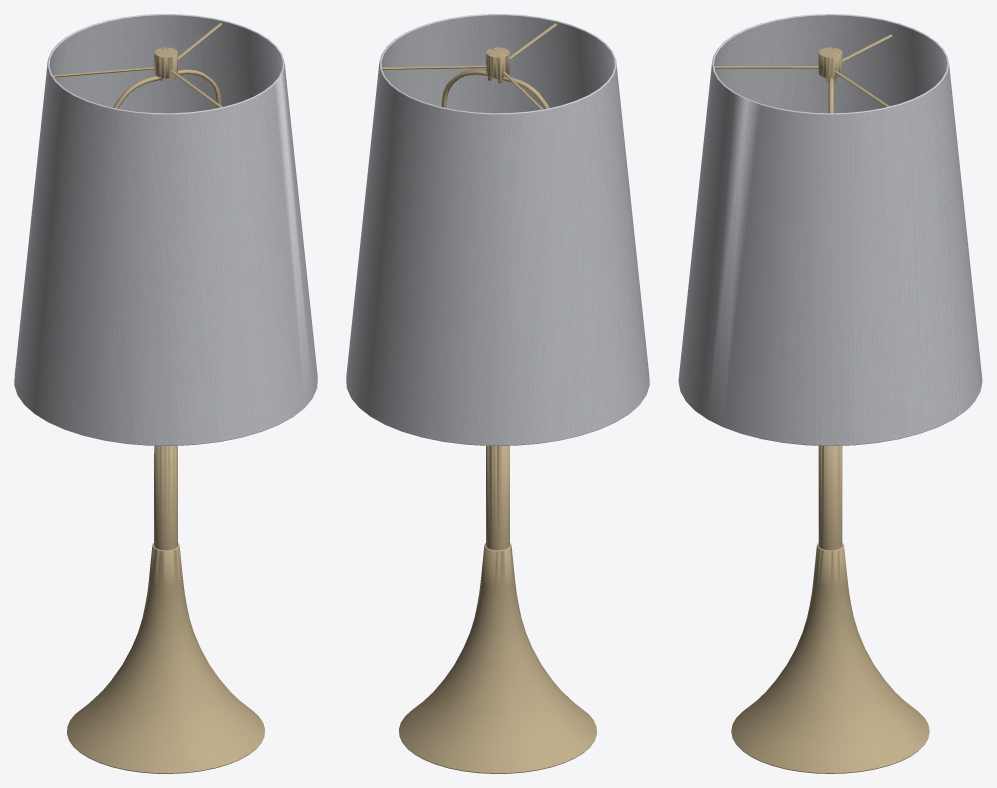
3 renders of one model, left to right at view 1: azimuth 30°, elevation 25°; view 2: azimuth 150°, elevation 25°; view 3: azimuth 270°, elevation 25°, orthographic.
Parts seen in each view (by area): view 1: RootNode; view 2: RootNode; view 3: RootNode.
Part boxes in pixels (left/top/right/bottom): RootNode: left=14, top=14, right=317, bottom=773; RootNode: left=346, top=14, right=649, bottom=773; RootNode: left=678, top=14, right=982, bottom=773.
Bounding box in the file's own units: 0.2307 × 0.5693 × 0.2307.
Materials: 1 (1 with a texture image).
